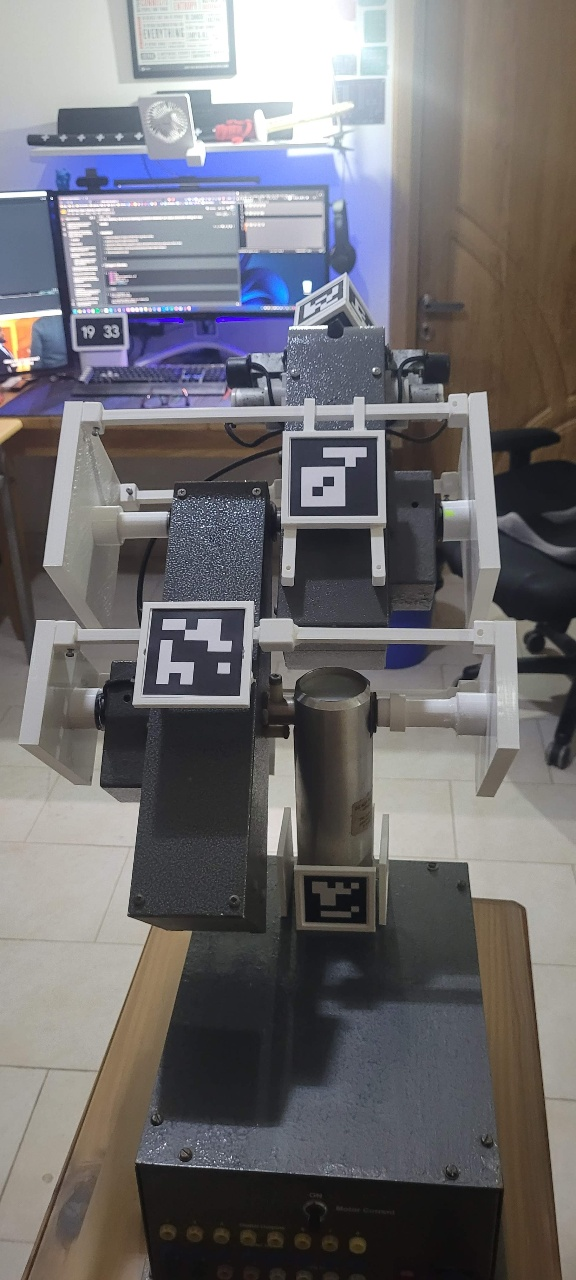Robot: (28, 407, 542, 1039)
